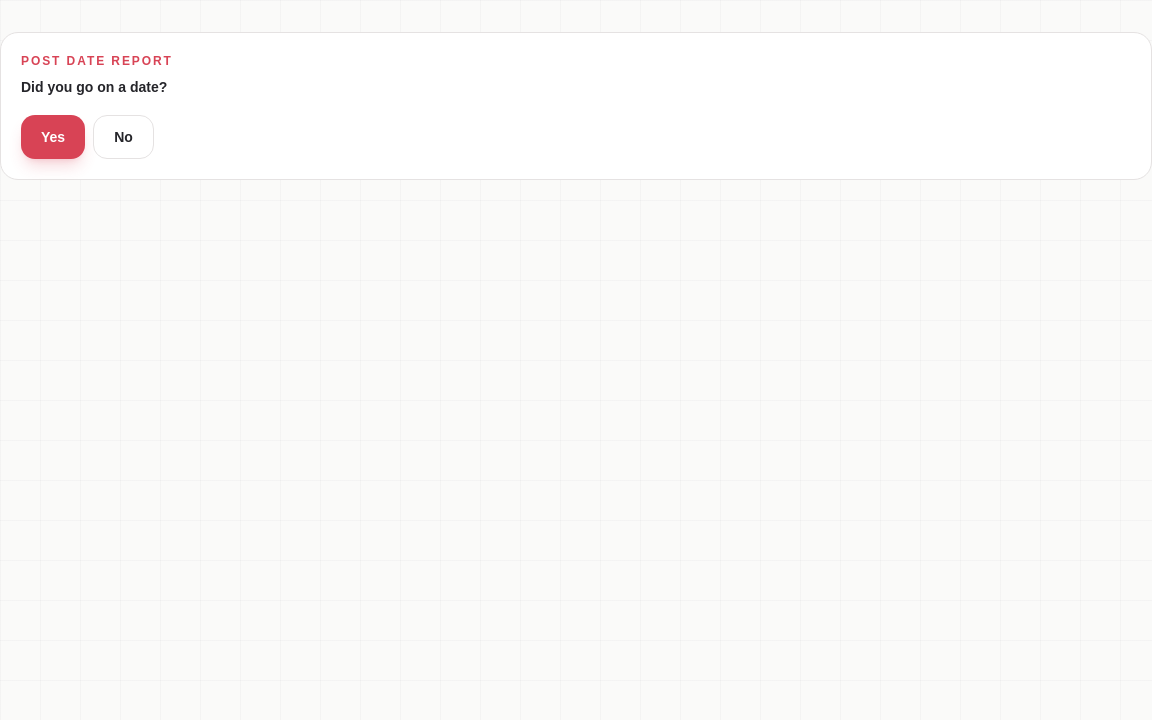
Scenario: date feedback controls › submits No date quality only after confirming a date
Click the button "Yes" at (53, 137), box [21,115,85,159]
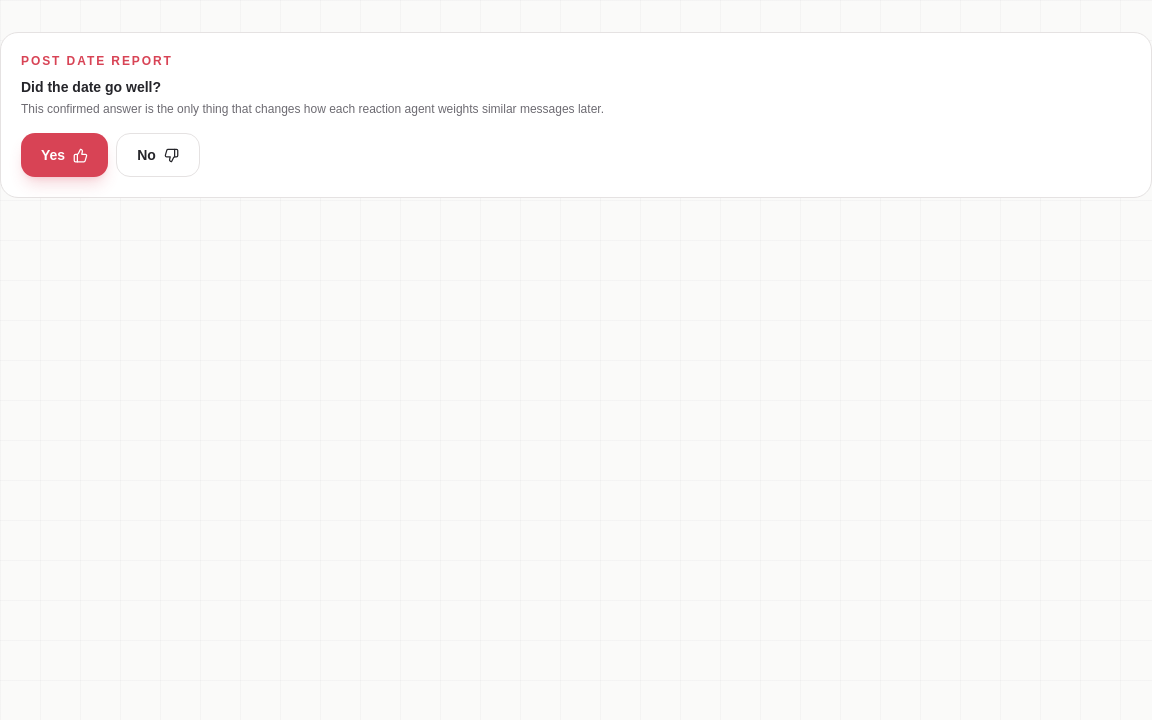
Click the button "No" at (158, 155), box [116,133,200,177]
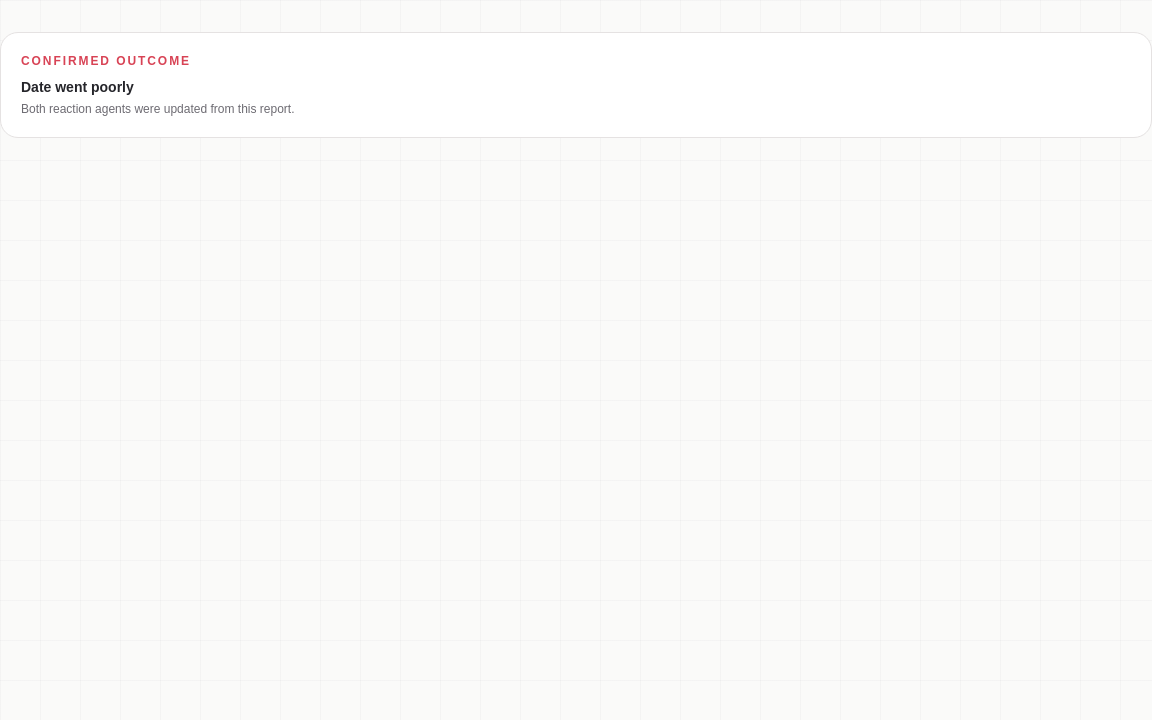
Expected: the text "Both reaction agents were updated from this report." is shown, [21,102,294,116]
